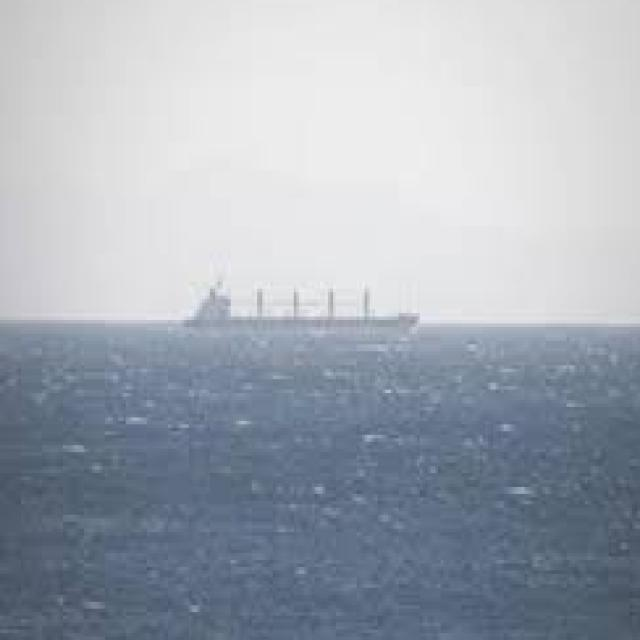cargoship: (182, 270, 423, 338)
